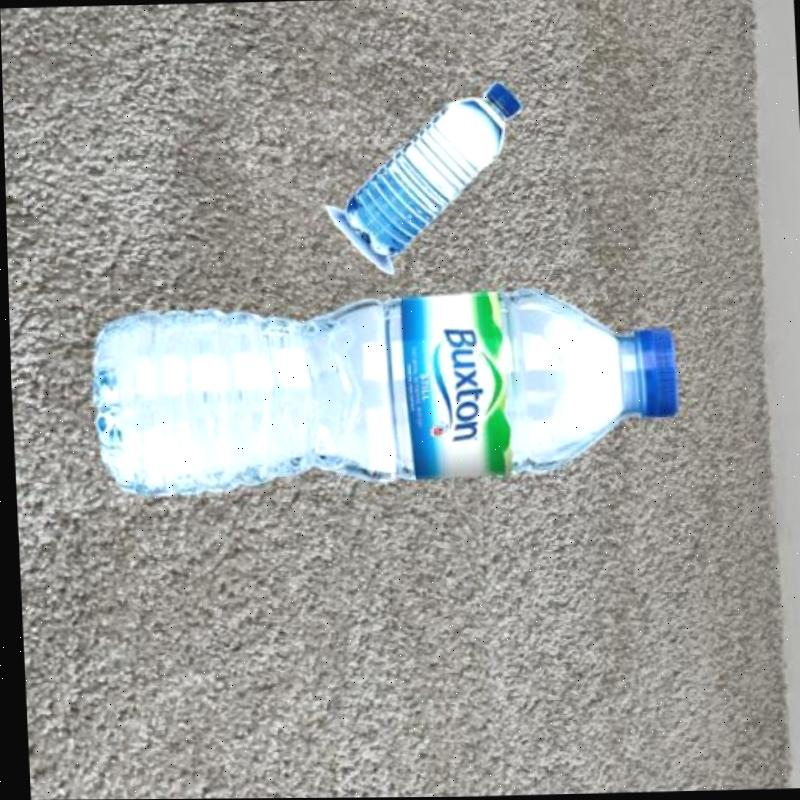botella: (85, 282, 679, 503), (331, 82, 529, 261)
